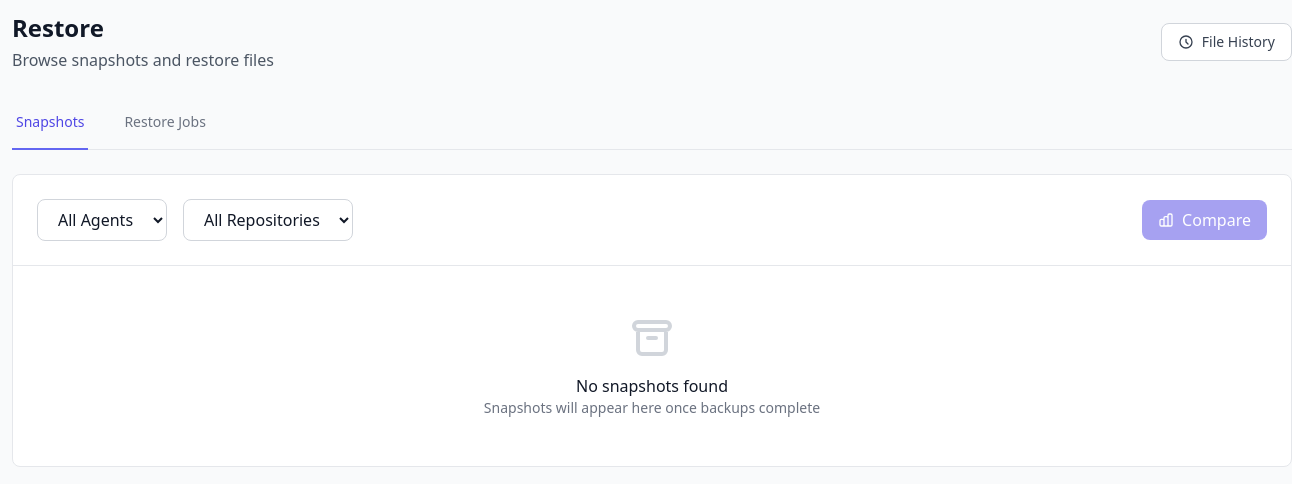
Test: Restore › switches to Restore Jobs tab
Click the button "Restore Jobs": (165, 123) [120,96,210,150]
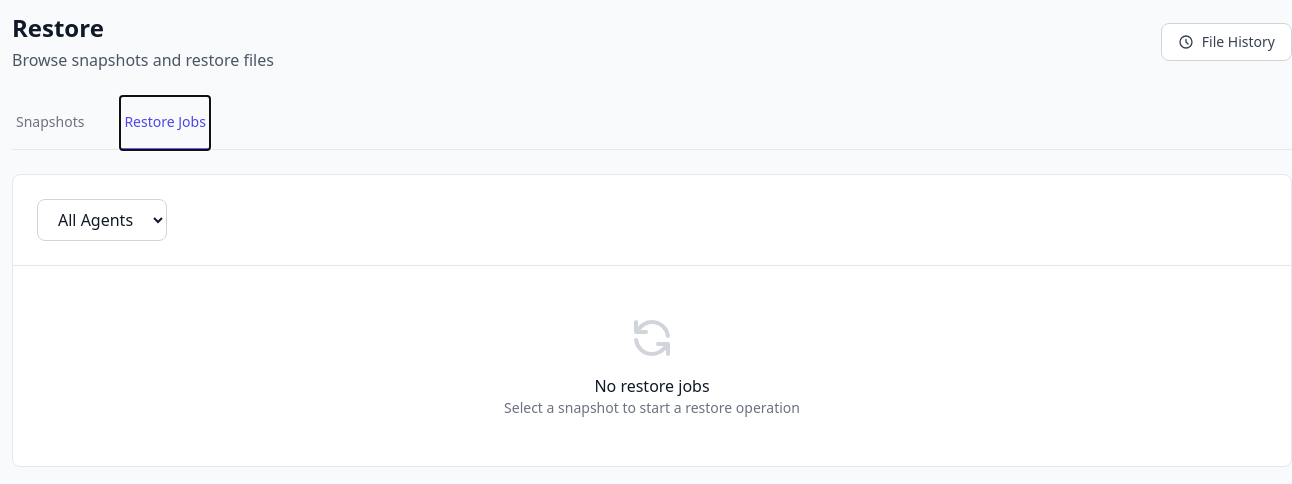
Check: the text "No restore jobs" is shown, box [594,375,710,397]
